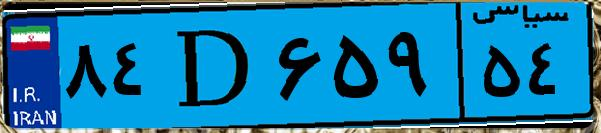4: (525, 38, 570, 115), (110, 28, 158, 98)
5: (330, 28, 385, 110), (475, 38, 525, 113)
6: (270, 28, 330, 110)
8: (57, 26, 110, 100)
9: (385, 28, 445, 110)
D: (158, 12, 270, 120)
